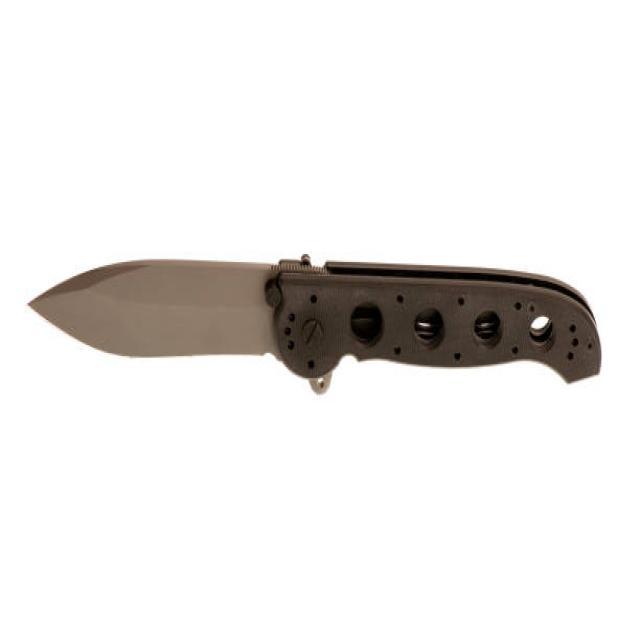knife: (24, 243, 610, 397)
